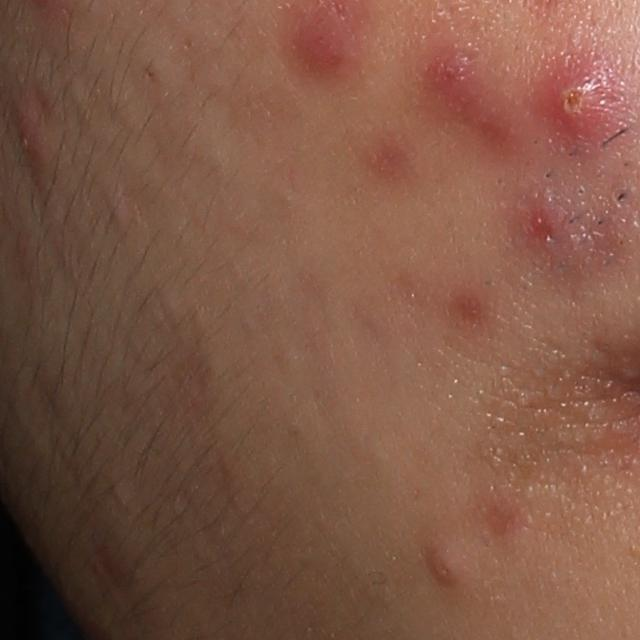papule: (525, 56, 622, 147), (516, 193, 582, 258), (294, 9, 356, 77), (425, 42, 482, 109), (9, 98, 50, 175), (422, 544, 473, 591)
